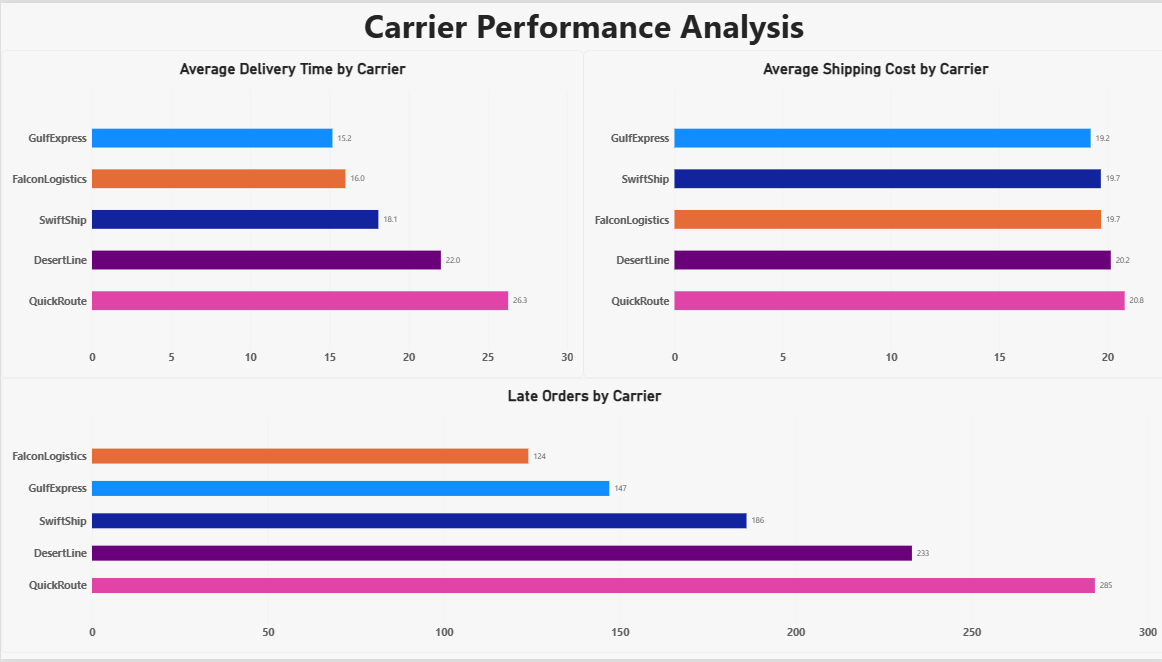

The page's visual inventory and layout, read from the dashboard file:
{"tool":"powerbi","page":{"name":"Carrier Deep Dive","canvas":[1920,1080],"ordinal":1},"visuals":[{"type":"clusteredBarChart","title":"Average Delivery Time by Carrier","fields":{"Category":["warehouse_logistics carriers.carrier_name"],"Series":["warehouse_logistics carriers.carrier_name"],"Y":["warehouse_logistics carriers.Average Delivery Hours"]},"box":[0,78.2,959.2,539.3],"z":0},{"type":"clusteredBarChart","title":"Average Shipping Cost by Carrier","fields":{"Category":["warehouse_logistics carriers.carrier_name"],"Series":["warehouse_logistics carriers.carrier_name"],"Y":["warehouse_logistics carriers.Average Shipping Cost"]},"box":[959.2,78.2,961.2,539.3],"z":1},{"type":"clusteredBarChart","title":"Late Orders by Carrier","fields":{"Category":["warehouse_logistics carriers.carrier_name"],"Series":["warehouse_logistics carriers.carrier_name"],"Y":["warehouse_logistics carriers.Late Orders"]},"box":[0,617.5,1920.4,452.8],"z":2},{"type":"textbox","box":[0,0,1920.4,78.2],"z":3}]}

Visuals, with their boxes in screenshot pixels (x1, y1, x2, y2), scaled from the page's 1920x1080 canvas onto the 1162x662 screenshot:
"Average Delivery Time by Carrier" clusteredBarChart: <bbox>0, 48, 581, 379</bbox>
"Average Shipping Cost by Carrier" clusteredBarChart: <bbox>581, 48, 1161, 379</bbox>
"Late Orders by Carrier" clusteredBarChart: <bbox>0, 379, 1161, 656</bbox>
textbox: <bbox>0, 0, 1161, 48</bbox>
